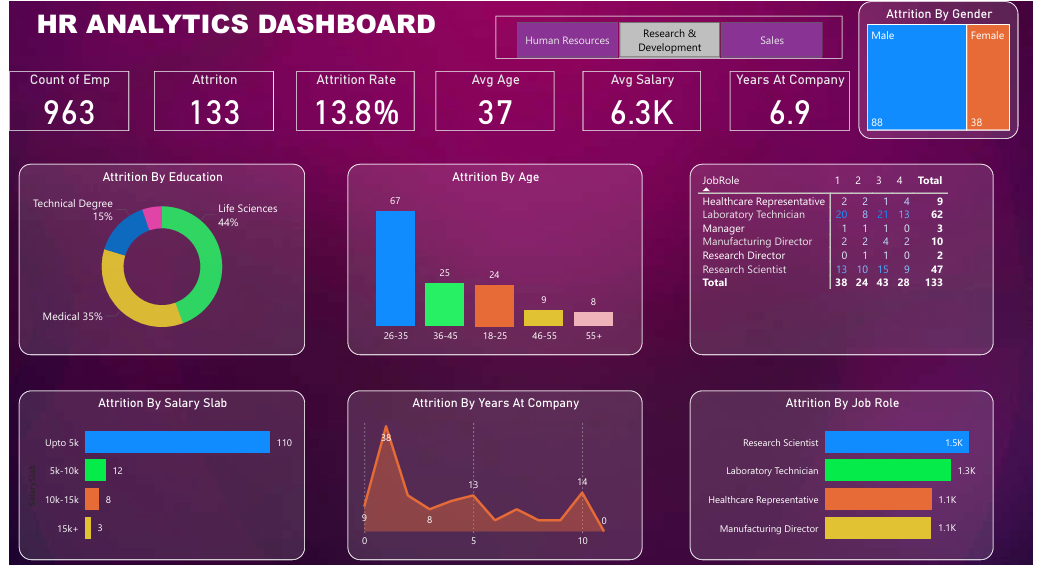

The dashboard page shown, as its layout file describes it:
{"tool":"powerbi","page":{"name":"Page 1","canvas":[1280,720],"ordinal":0},"visuals":[{"type":"card","title":"Count of Emp","fields":{"Values":["CountNonNull(HR_Analytics.EmpID)"]},"box":[0,86.7,149.9,74.9],"z":0},{"type":"card","title":"Attriton","fields":{"Values":["Sum(HR_Analytics.Attrition_r)"]},"box":[180.7,86.7,149.9,74.9],"z":1000},{"type":"card","title":"Avg Age","fields":{"Values":["Avg(HR_Analytics.Age)"]},"box":[533.4,86.7,148.4,74.9],"z":2000},{"type":"card","title":"Attrition Rate","fields":{"Values":["HR_Analytics.AttritionRate"]},"box":[358.5,86.7,148.4,74.9],"z":3000},{"type":"card","title":"Avg Salary","fields":{"Values":["Avg(HR_Analytics.MonthlyIncome)"]},"box":[717.1,86.7,148.4,74.9],"z":4000},{"type":"card","title":"Years At Company","fields":{"Values":["Avg(HR_Analytics.YearsAtCompany)"]},"box":[900.7,86.7,149.9,74.9],"z":5000},{"type":"donutChart","title":"Attrition By Education","fields":{"Y":["Sum(HR_Analytics.Attrition_r)"],"Category":["HR_Analytics.EducationField"]},"box":[11.8,202.8,358.5,239.5],"z":6000},{"type":"columnChart","title":"Attrition By Age","fields":{"Category":["HR_Analytics.AgeGroup"],"Y":["Sum(HR_Analytics.Attrition_r)"]},"box":[423.2,202.8,368.8,239.5],"z":7000},{"type":"pivotTable","fields":{"Rows":["HR_Analytics.JobRole"],"Columns":["HR_Analytics.JobSatisfaction"],"Values":["Sum(HR_Analytics.Attrition_r)"]},"box":[850.8,202.8,380.6,239.5],"z":8000},{"type":"barChart","title":"Attrition By Salary Slab","fields":{"Category":["HR_Analytics.SalarySlab"],"Y":["Sum(HR_Analytics.Attrition_r)"]},"box":[11.8,486.4,358.5,211.6],"z":9000},{"type":"barChart","title":"Attrition By Job Role","fields":{"Category":["HR_Analytics.JobRole"],"Y":["Sum(HR_Analytics.YearsAtCompany)"]},"box":[850.8,486.4,380.6,211.6],"z":10000},{"type":"areaChart","title":"Attrition By Years At Company","fields":{"Category":["HR_Analytics.YearsAtCompany"],"Y":["Sum(HR_Analytics.Attrition_r)"]},"box":[423.2,486.4,368.8,211.6],"z":11000},{"type":"treemap","title":"Attrition By Gender","fields":{"Group":["HR_Analytics.Gender"],"Values":["Sum(HR_Analytics.Attrition_r)"]},"box":[1062.4,0,199.8,171.9],"z":12000},{"type":"slicer","fields":{"Values":["HR_Analytics.Department"]},"box":[608.3,17.6,433.5,54.4],"z":13000},{"type":"textbox","box":[29.4,0,546.6,55.8],"z":13001}]}

Visuals, with their boxes in screenshot pixels (x1, y1, x2, y2):
"Count of Emp" card: [left=3, top=70, right=123, bottom=130]
"Attriton" card: [left=148, top=70, right=268, bottom=130]
"Avg Age" card: [left=431, top=70, right=551, bottom=130]
"Attrition Rate" card: [left=291, top=70, right=410, bottom=130]
"Avg Salary" card: [left=579, top=70, right=698, bottom=130]
"Years At Company" card: [left=727, top=70, right=847, bottom=130]
"Attrition By Education" donutChart: [left=12, top=163, right=300, bottom=356]
"Attrition By Age" columnChart: [left=343, top=163, right=639, bottom=356]
pivotTable - HR_Analytics.JobRole x HR_Analytics.JobSatisfaction: [left=687, top=163, right=993, bottom=356]
"Attrition By Salary Slab" barChart: [left=12, top=391, right=300, bottom=561]
"Attrition By Job Role" barChart: [left=687, top=391, right=993, bottom=561]
"Attrition By Years At Company" areaChart: [left=343, top=391, right=639, bottom=561]
"Attrition By Gender" treemap: [left=857, top=0, right=1017, bottom=138]
slicer - HR_Analytics.Department: [left=492, top=14, right=840, bottom=58]
textbox: [left=26, top=0, right=466, bottom=45]
